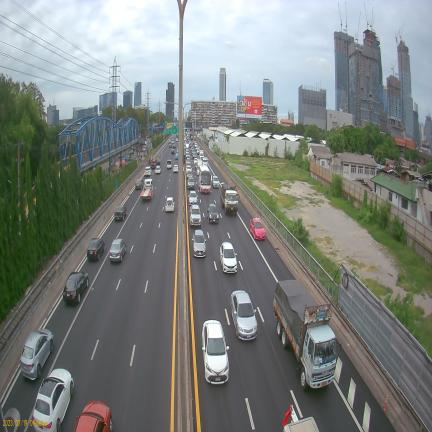bus: (199, 165, 211, 193)
car: (32, 369, 74, 432), (20, 329, 54, 380), (202, 320, 229, 384), (231, 290, 257, 340), (74, 401, 113, 432), (63, 272, 89, 303), (220, 242, 237, 273), (87, 238, 105, 261), (192, 229, 206, 257), (109, 239, 126, 262), (190, 204, 201, 227), (207, 203, 219, 223), (114, 204, 127, 221), (165, 197, 174, 212), (189, 190, 198, 205), (187, 177, 195, 189), (135, 178, 143, 189), (186, 167, 193, 179), (212, 176, 219, 188), (144, 166, 152, 176), (155, 165, 161, 174), (202, 157, 208, 165), (186, 164, 191, 173), (186, 156, 191, 165), (156, 158, 161, 166), (173, 165, 178, 173), (194, 158, 197, 168), (175, 153, 179, 160), (171, 149, 175, 154), (171, 139, 174, 144), (173, 144, 176, 149), (169, 143, 172, 148), (176, 138, 178, 142)
taxi: (250, 218, 265, 239)
truck: (273, 280, 337, 389), (282, 405, 319, 432), (220, 183, 238, 215), (283, 417, 319, 432), (141, 179, 153, 201), (197, 158, 202, 175), (166, 160, 172, 169)
